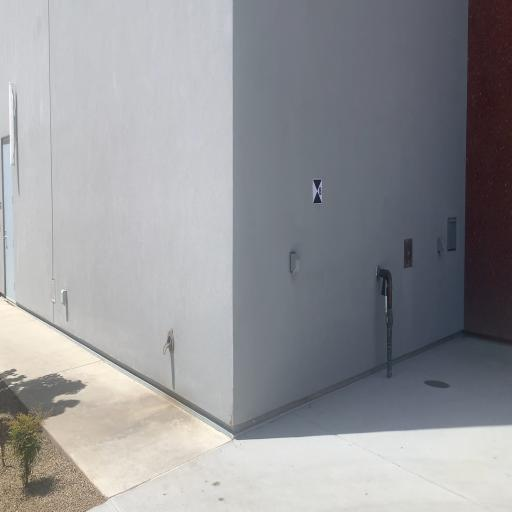target8: (312, 179, 323, 204)
